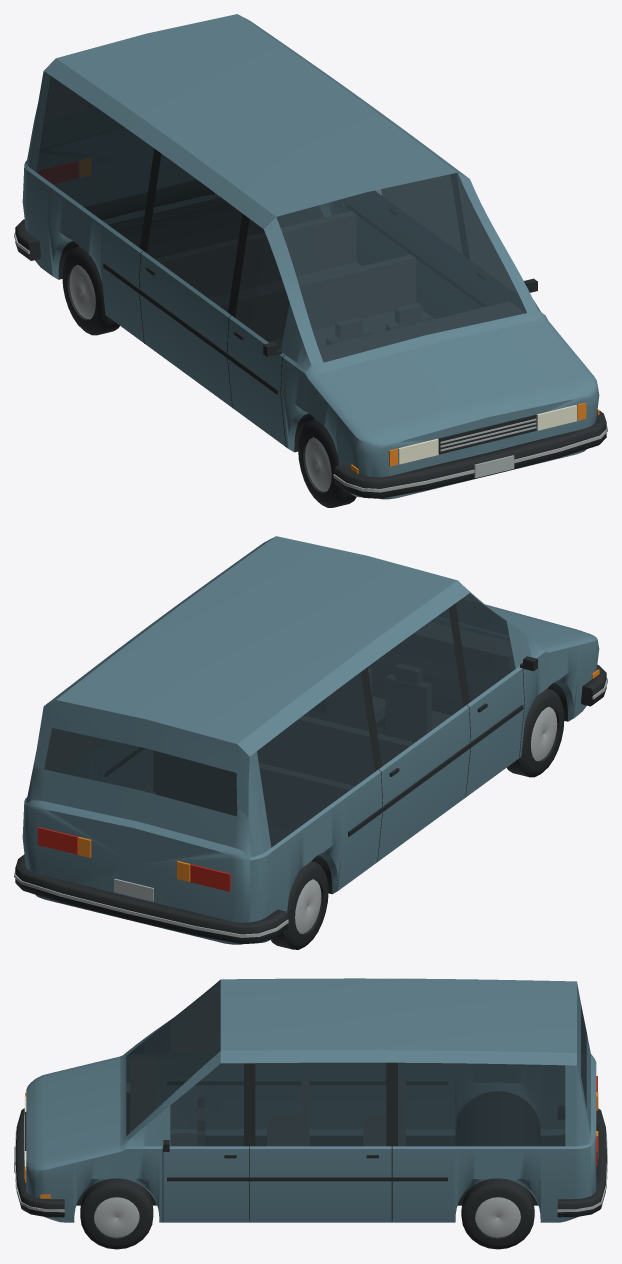
Rendered from customer-car-minivan.glb.
3 views of the same model, one above another, from view 1: azimuth 30°, elevation 25°; view 2: azimuth 150°, elevation 25°; view 3: azimuth 270°, elevation 25° (orthographic). The views are drawn at different scales.
Visible parts, largest first — view 1: Minivan_BodyPaint, Minivan_WindowGlass, Minivan_RubberTrim, Minivan_InteriorCloth, Minivan_WheelMetal, Minivan_Headlamp; view 2: Minivan_BodyPaint, Minivan_WindowGlass, Minivan_InteriorCloth, Minivan_RubberTrim, Minivan_WheelMetal, Minivan_TailLamp, Minivan_AmberLens; view 3: Minivan_BodyPaint, Minivan_WindowGlass, Minivan_RubberTrim, Minivan_InteriorCloth, Minivan_WheelMetal.
Boxes of the visible parts, x1,y1,x2,y2 form: Minivan_BodyPaint: (22,14,599,499); Minivan_WindowGlass: (36,76,526,362); Minivan_RubberTrim: (15,148,606,507); Minivan_InteriorCloth: (156,211,524,361); Minivan_WheelMetal: (14,232,607,492); Minivan_Headlamp: (398,405,577,464); Minivan_BodyPaint: (22,536,599,944); Minivan_WindowGlass: (44,593,515,847); Minivan_InteriorCloth: (154,622,514,829); Minivan_RubberTrim: (15,603,606,949); Minivan_WheelMetal: (14,678,607,937); Minivan_TailLamp: (37,827,230,891); Minivan_AmberLens: (78,669,599,881); Minivan_BodyPaint: (26,978,596,1222); Minivan_WindowGlass: (126,980,586,1146); Minivan_RubberTrim: (15,1062,606,1249); Minivan_InteriorCloth: (131,1058,405,1145); Minivan_WheelMetal: (14,1115,607,1237).
Size of the model in its own units: 6.56 by 5.56 by 15.43.
